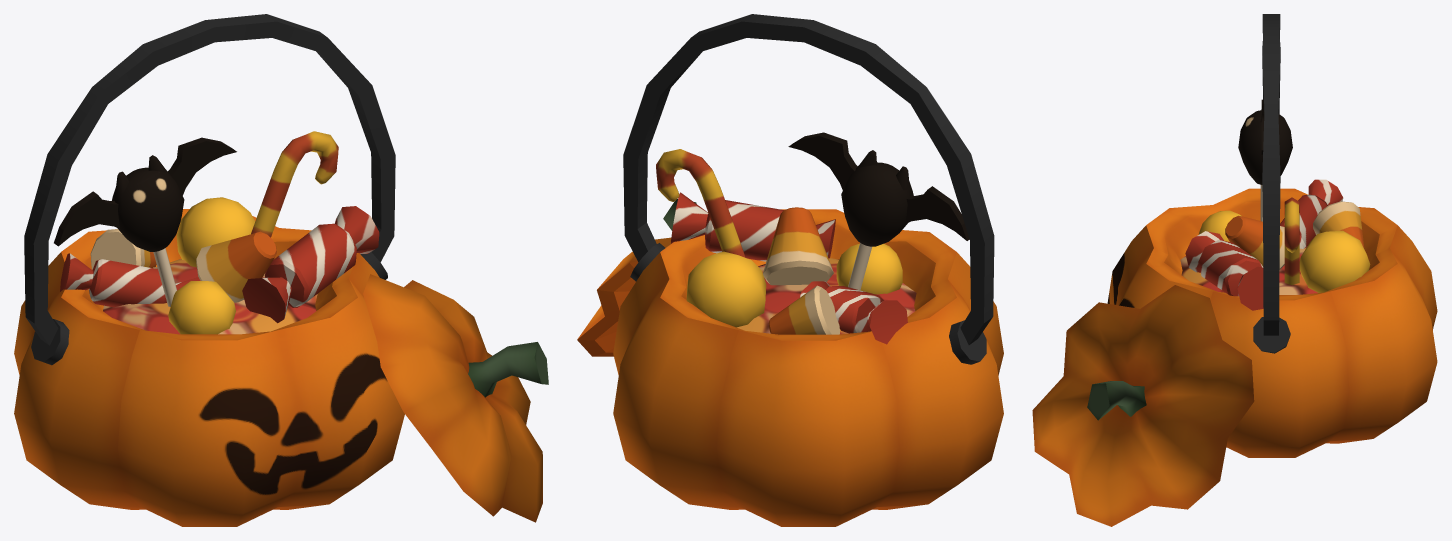
Rendered from BasketB.fbx.
3 views of the same model, side by side, from view 1: azimuth 30°, elevation 25°; view 2: azimuth 150°, elevation 25°; view 3: azimuth 270°, elevation 25° (orthographic). The views are drawn at different scales.
Parts seen in each view (by area): view 1: BasketB_, BasketB_top_, BasketB_handle_, candyBat_, candyB01_, candyB02_, candyC01_, candyA02_, candyCane_, candyA01, candyC02_; view 2: BasketB_, BasketB_handle_, candyBat_, candyA02_, candyB01_, candyC01_, candyCane_, candyB02_, BasketB_top_, candyC02_, candyA01; view 3: BasketB_, BasketB_top_, BasketB_handle_, candyB01_, candyA02_, candyBat_, candyB02_, candyC01_, candyC02_, candyCane_, candyA01.
Part boxes in pixels (box(x1,y1,x2,y2)): BasketB_: box(14, 209, 404, 526); BasketB_top_: box(363, 274, 548, 522); BasketB_handle_: box(24, 14, 395, 365); candyBat_: box(54, 137, 236, 306); candyB01_: box(242, 206, 379, 323); candyB02_: box(60, 253, 199, 307); candyC01_: box(196, 231, 276, 302); candyA02_: box(176, 197, 255, 267); candyCane_: box(251, 131, 338, 237); candyA01: box(168, 281, 235, 334); candyC02_: box(90, 229, 156, 269); BasketB_: box(613, 209, 1003, 526); BasketB_handle_: box(623, 14, 994, 364); candyBat_: box(788, 132, 969, 290); candyA02_: box(686, 251, 766, 327); candyB01_: box(671, 192, 835, 261); candyC01_: box(763, 207, 833, 285); candyCane_: box(656, 149, 745, 257); candyB02_: box(800, 281, 907, 344); BasketB_top_: box(577, 199, 696, 356); candyC02_: box(768, 285, 839, 334); candyA01: box(836, 243, 902, 294); BasketB_: box(1107, 188, 1437, 457); BasketB_top_: box(1032, 285, 1254, 526); BasketB_handle_: box(1253, 14, 1290, 353); candyB01_: box(1185, 231, 1279, 310); candyA02_: box(1299, 230, 1370, 292); candyBat_: box(1238, 99, 1292, 221); candyB02_: box(1280, 179, 1343, 248); candyC01_: box(1225, 215, 1284, 269); candyC02_: box(1313, 201, 1364, 248); candyCane_: box(1284, 197, 1299, 284); candyA01: box(1198, 210, 1241, 241).
Bounding box in the file's own units: 47.13 × 47.2 × 43.69.
